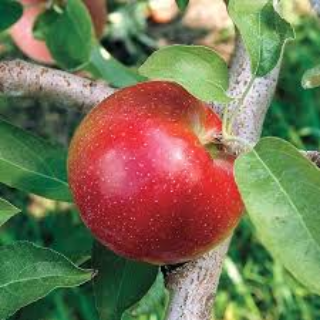tao: (62, 76, 247, 268)
